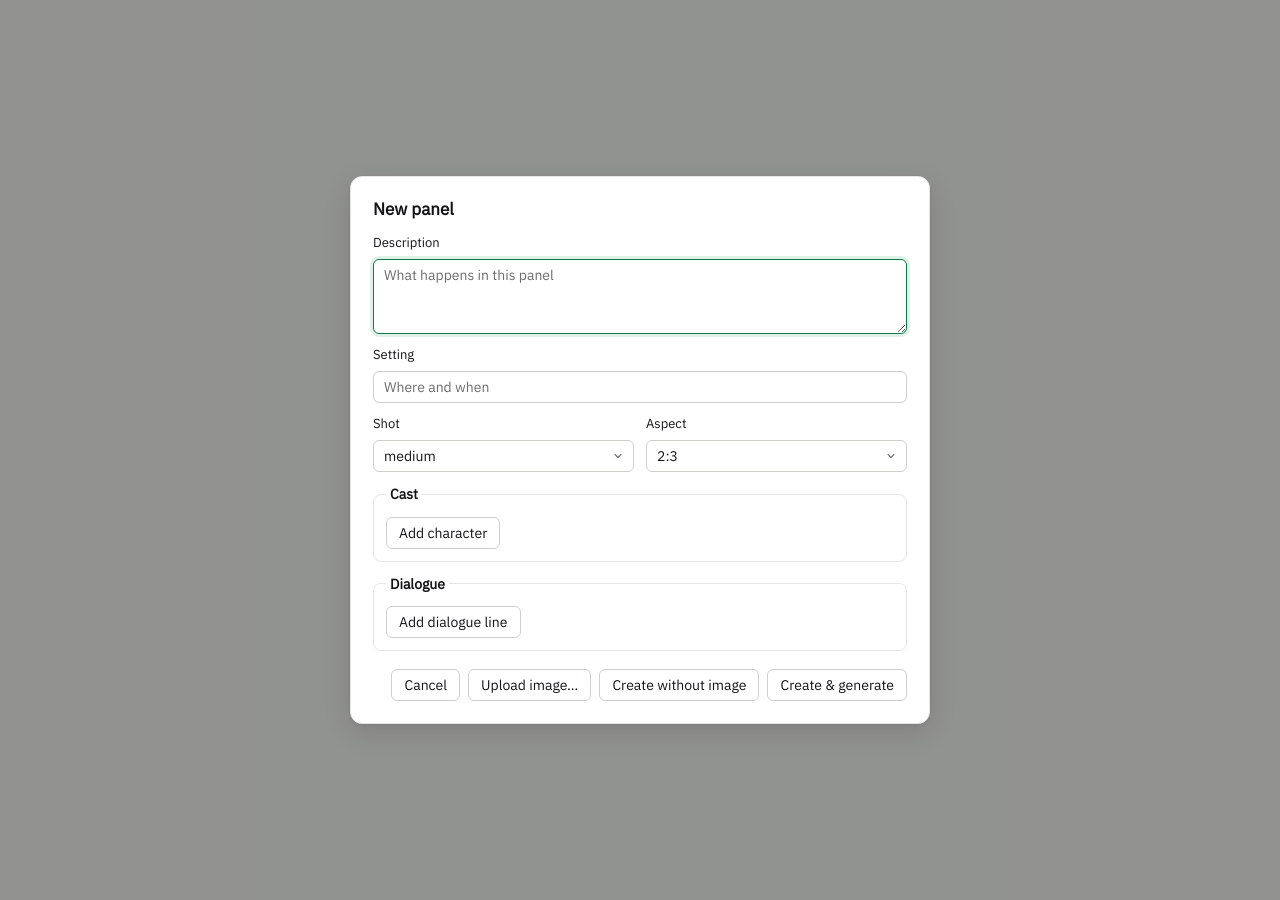
PanelEditorDialog › reports a failed upload next to the panel that was created
The width and height of the screenshot is (1280, 900).
Click the button "Upload image…". click: {"x": 530, "y": 685}
box: [468,669,591,701]
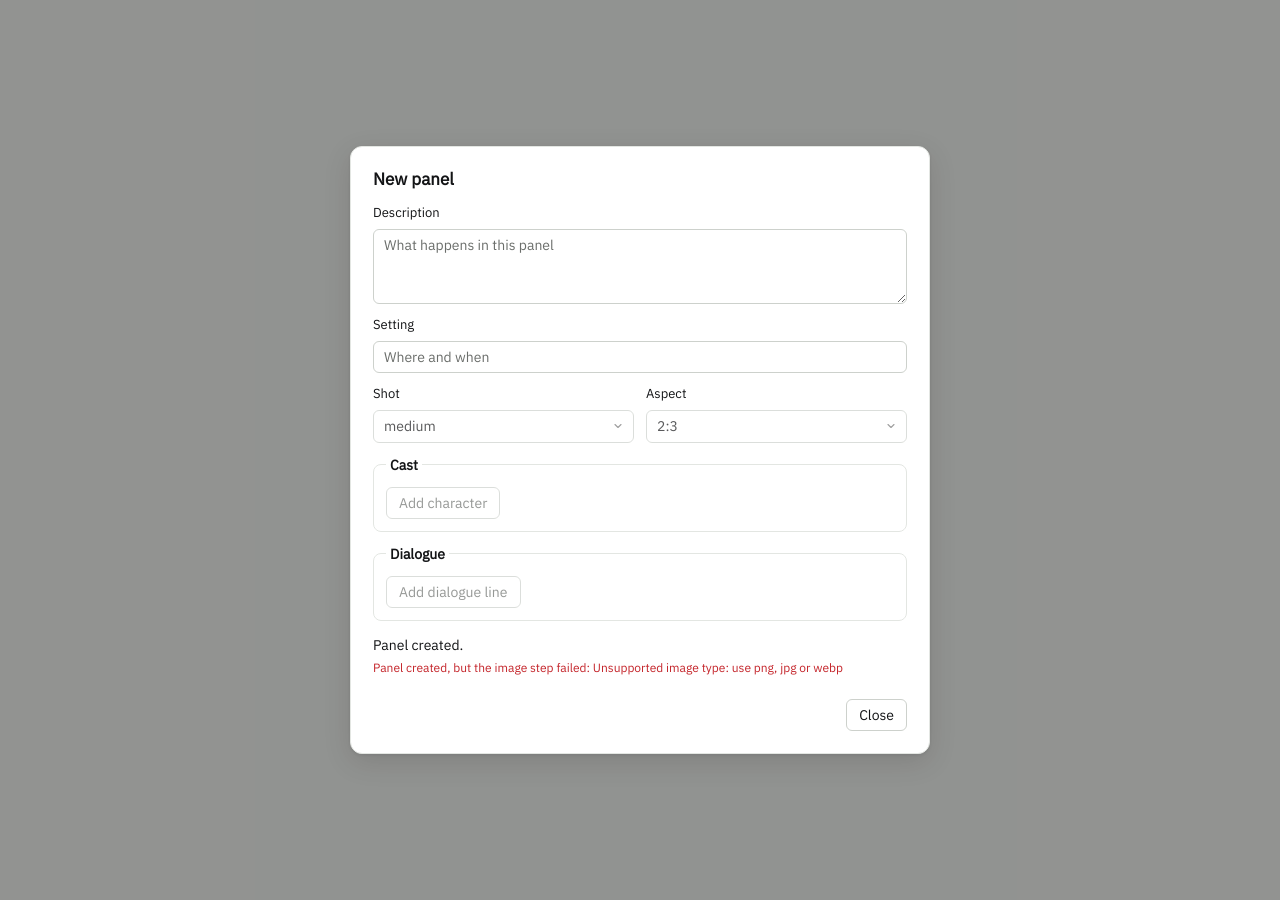
Expected: the text "Unsupported image type" is shown, [373,660,843,675]
Expected: the button "Close" is shown, [846,699,907,731]
Expected: the button "Create & generate" is gone
